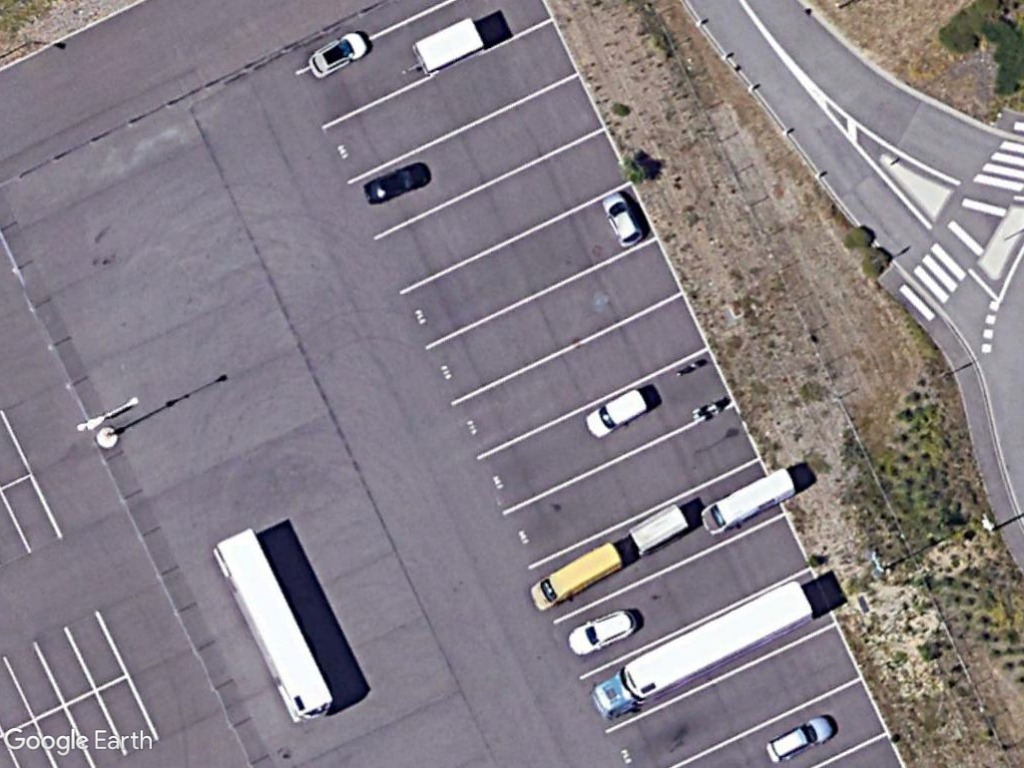car: (763, 709, 835, 767), (567, 605, 637, 658), (305, 29, 370, 79), (599, 191, 645, 249)
longvehicle: (588, 577, 815, 723)
van: (527, 536, 625, 613), (696, 466, 795, 538), (581, 386, 651, 443)
